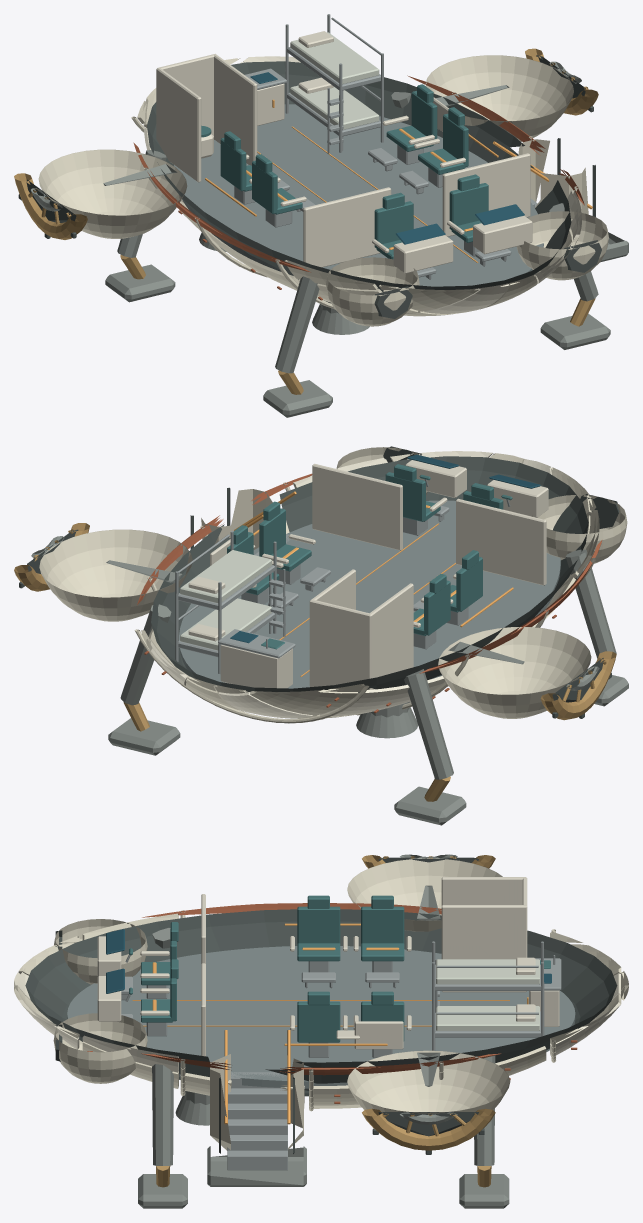
The picture shows the model from 3 angles, top to bottom: view 1: azimuth 30°, elevation 25°; view 2: azimuth 150°, elevation 25°; view 3: azimuth 270°, elevation 25°; orthographic projection. The views are drawn at different scales.
Visible parts, largest first — view 1: RE-076 USS Aurora fitted cabin cutaway batched; view 2: RE-076 USS Aurora fitted cabin cutaway batched; view 3: RE-076 USS Aurora fitted cabin cutaway batched.
Part boxes in pixels (x1,y1,x2,y2): RE-076 USS Aurora fitted cabin cutaway batched: (14,14,628,417); RE-076 USS Aurora fitted cabin cutaway batched: (14,446,628,825); RE-076 USS Aurora fitted cabin cutaway batched: (14,854,628,1208).
Bounding box in the file's own units: 12.66 × 4.62 × 12.54.
